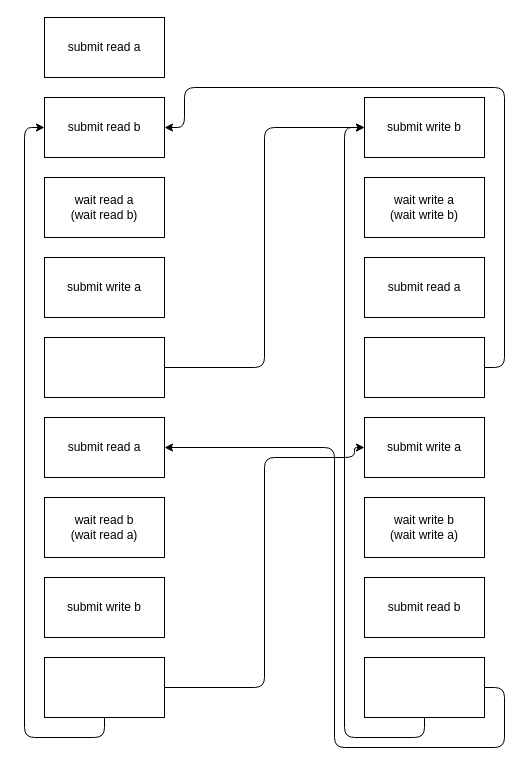
The diagram is 530 pixels wide and 773 high, and some of its shapes have lost their labels. Each missing label, with the centre of its shape:
wait read a wait write b: the point at 104,687
wait read b wait write a: the point at 104,367
wait write a wait read b: the point at 424,687
wait write b wait read a: the point at 424,367
